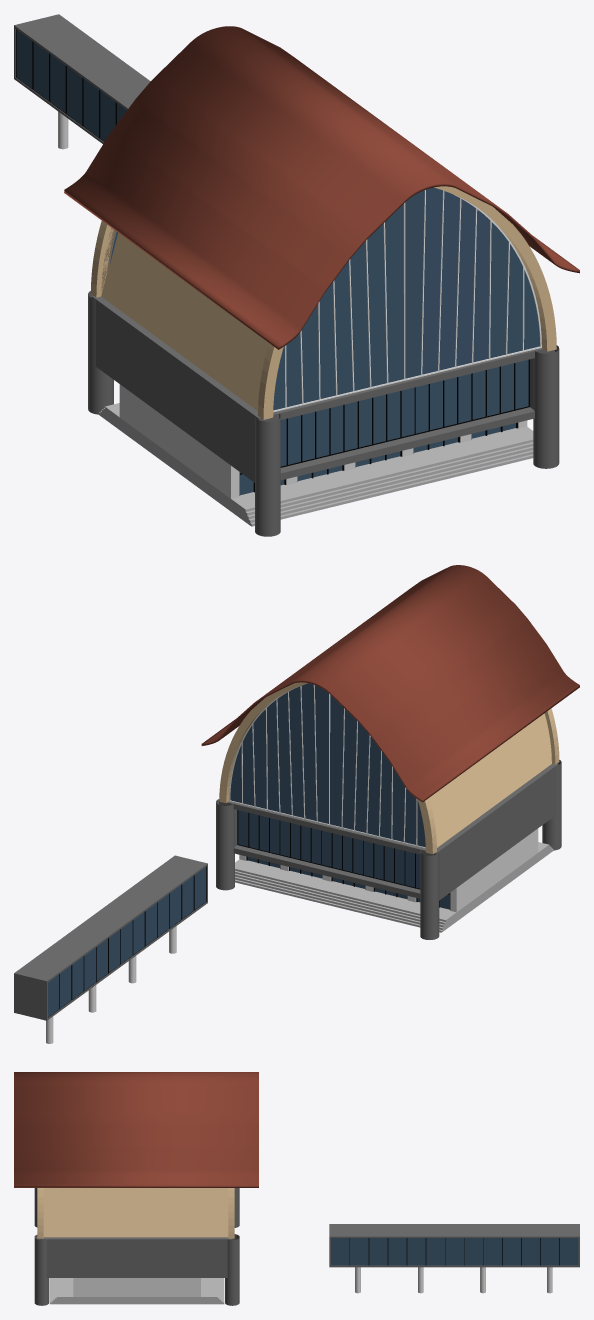
The model's file is Airport.fbx.
3 views of the same model, one above another, from view 1: azimuth 30°, elevation 25°; view 2: azimuth 150°, elevation 25°; view 3: azimuth 270°, elevation 25° (orthographic). The views are drawn at different scales.
Parts seen in each view (by area): view 1: Airport_Roof, Airport_TopWIndows, Airport_Middle, Airport_Arc, Airport_Windows, Airport_Floor, Airport_Pillars, Airport_TopFrame, Platform_Main, Platform_Windows, Airport_Bottom, Airport_Frame (+1 smaller); view 2: Airport_Roof, Airport_TopWIndows, Airport_Middle, Airport_Arc, Platform_Main, Airport_Windows, Airport_Floor, Platform_Windows, Airport_Pillars, Airport_TopFrame, Airport_Bottom, Airport_Frame (+2 smaller); view 3: Airport_Roof, Airport_Arc, Airport_Middle, Platform_Windows, Platform_Main, Airport_Bottom, Airport_Floor, Airport_Pillars, Platform_Pillars, Platform_Frame.
Boxes of the visible parts, x1,y1,x2,y2 form: Airport_Roof: [64, 26, 579, 349]; Airport_TopWIndows: [110, 187, 539, 410]; Airport_Middle: [92, 296, 554, 482]; Airport_Arc: [91, 186, 556, 419]; Airport_Windows: [240, 359, 528, 495]; Airport_Floor: [99, 403, 533, 526]; Airport_Pillars: [88, 291, 559, 536]; Airport_TopFrame: [109, 190, 541, 412]; Platform_Main: [14, 14, 150, 143]; Platform_Windows: [16, 30, 126, 141]; Airport_Bottom: [119, 384, 527, 498]; Airport_Frame: [239, 359, 529, 495]; Airport_Roof: [201, 565, 579, 802]; Airport_TopWIndows: [230, 683, 425, 847]; Airport_Middle: [219, 763, 558, 900]; Airport_Arc: [219, 682, 559, 854]; Platform_Main: [14, 855, 207, 1020]; Airport_Windows: [238, 810, 449, 909]; Airport_Floor: [235, 842, 553, 932]; Platform_Windows: [48, 867, 205, 1016]; Airport_Pillars: [216, 760, 561, 939]; Airport_TopFrame: [229, 684, 425, 848]; Airport_Bottom: [239, 828, 538, 912]; Airport_Frame: [237, 810, 450, 909]; Airport_Roof: [14, 1072, 258, 1187]; Airport_Arc: [37, 1188, 234, 1238]; Airport_Middle: [42, 1237, 232, 1277]; Platform_Windows: [331, 1238, 578, 1265]; Platform_Main: [329, 1224, 579, 1267]; Airport_Bottom: [73, 1278, 200, 1296]; Airport_Floor: [50, 1278, 224, 1304]; Airport_Pillars: [34, 1188, 239, 1305]; Platform_Pillars: [355, 1267, 552, 1293]; Platform_Frame: [349, 1238, 559, 1265].
Size of the model in its own units: 3536 by 3680 by 10007.
